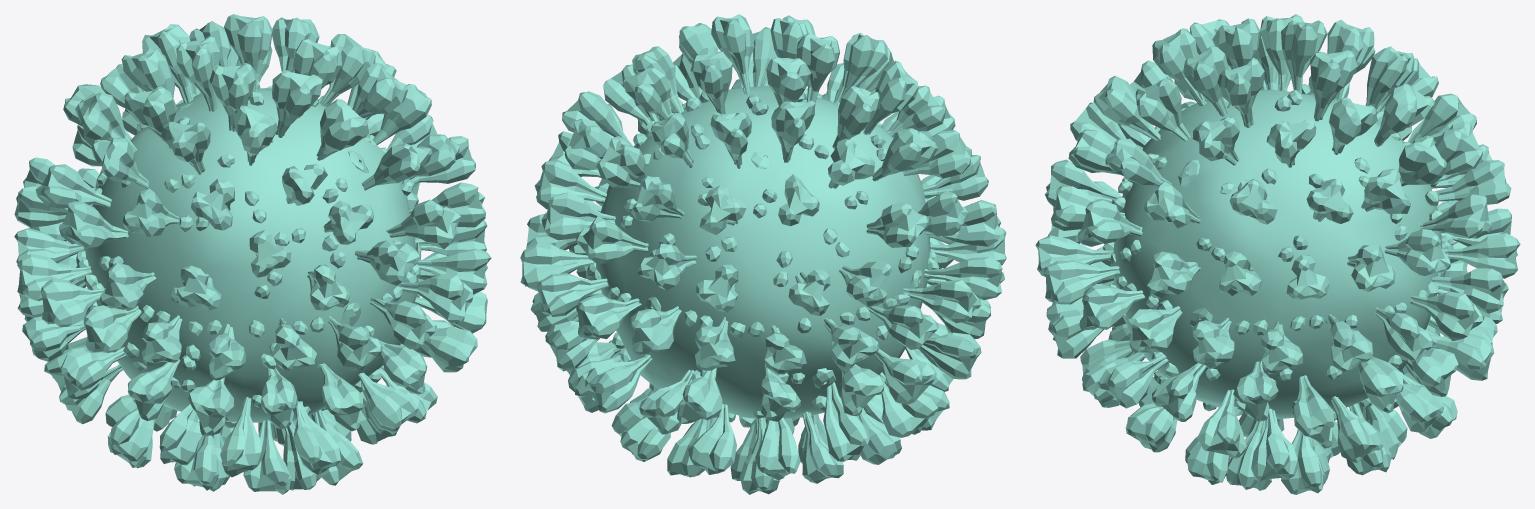
Rendered from Corona Virus (LOW).obj.
The picture shows the model from 3 angles, left to right: view 1: azimuth 30°, elevation 25°; view 2: azimuth 150°, elevation 25°; view 3: azimuth 270°, elevation 25°; orthographic projection.
Visible parts, largest first — view 1: Spike_Glycoprotein__S_, Envelope, M_Protein, Hemagglutinin_esterase_dimer__HE_; view 2: Spike_Glycoprotein__S_, Envelope, M_Protein, Hemagglutinin_esterase_dimer__HE_; view 3: Spike_Glycoprotein__S_, Envelope, M_Protein, Hemagglutinin_esterase_dimer__HE_.
Boxes of the visible parts, box(x1,y1,x2,y2) form: Spike_Glycoprotein__S_: box(14, 14, 491, 494); Envelope: box(84, 88, 418, 422); M_Protein: box(76, 79, 420, 427); Hemagglutinin_esterase_dimer__HE_: box(117, 103, 421, 420); Spike_Glycoprotein__S_: box(520, 14, 1006, 494); Envelope: box(594, 86, 930, 419); M_Protein: box(587, 88, 939, 427); Hemagglutinin_esterase_dimer__HE_: box(645, 151, 922, 388); Spike_Glycoprotein__S_: box(1035, 14, 1520, 494); Envelope: box(1113, 89, 1442, 418); M_Protein: box(1102, 84, 1454, 420); Hemagglutinin_esterase_dimer__HE_: box(1110, 160, 1445, 326).
Size of the model in its own units: 62.54 by 61.2 by 62.59.
